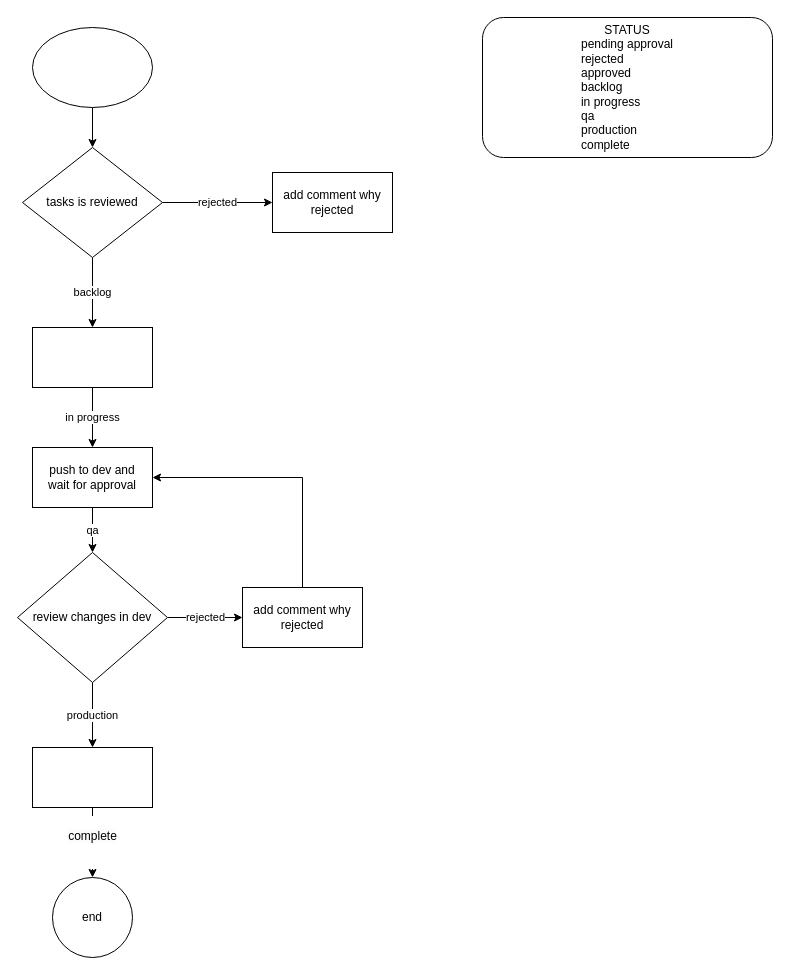
This 790x975 diagram has some shape labels left out. Each missing label, with the box of its shape:
awaiting someone to work on it: (32, 326, 152, 388)
push to production: (32, 746, 152, 808)
user has idea and creates task: (32, 26, 152, 108)
